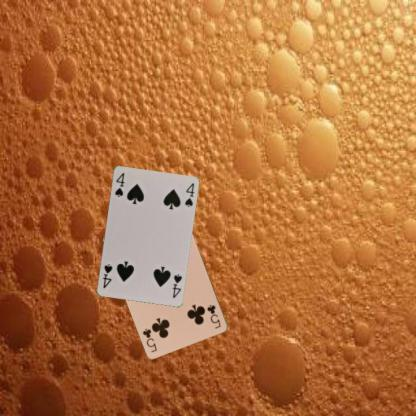4s: (112, 170, 126, 198), (169, 271, 183, 299)
5c: (204, 302, 223, 330)
